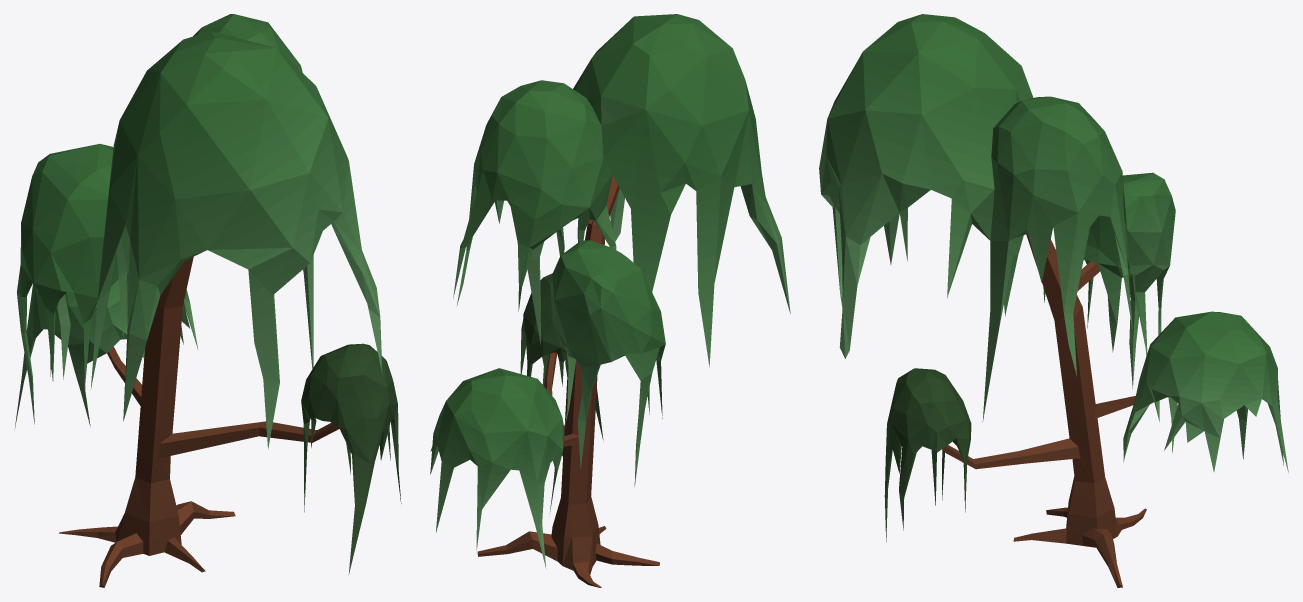
Rendered from salgueiro.glb.
3 views of the same model, side by side, from view 1: azimuth 30°, elevation 25°; view 2: azimuth 150°, elevation 25°; view 3: azimuth 270°, elevation 25° (orthographic). The views are drawn at different scales.
Visible parts, largest first — view 1: WillowTreeAdultA; view 2: WillowTreeAdultA; view 3: WillowTreeAdultA.
Part boxes in pixels (x1,y1,x2,y2): WillowTreeAdultA: (14, 14, 401, 587); WillowTreeAdultA: (430, 14, 790, 587); WillowTreeAdultA: (819, 14, 1288, 587).
Bounding box in the file's own units: 4.72 × 8.93 × 7.37.
1 material, 1 textured.
